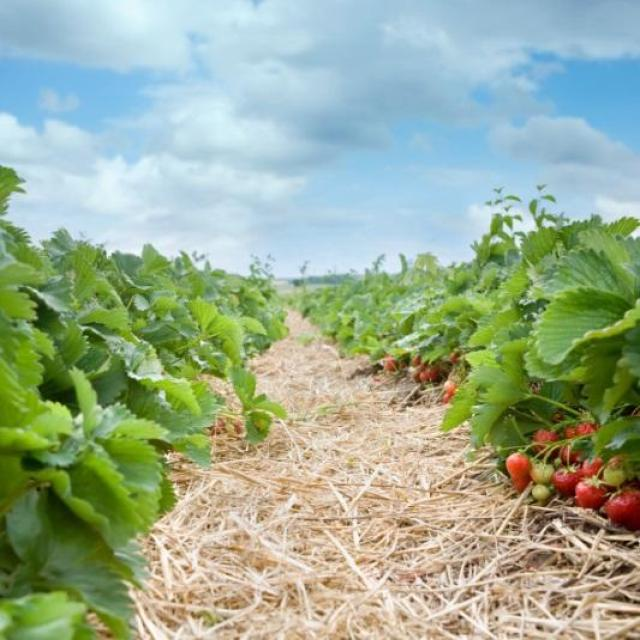row: (70, 305, 640, 639)
